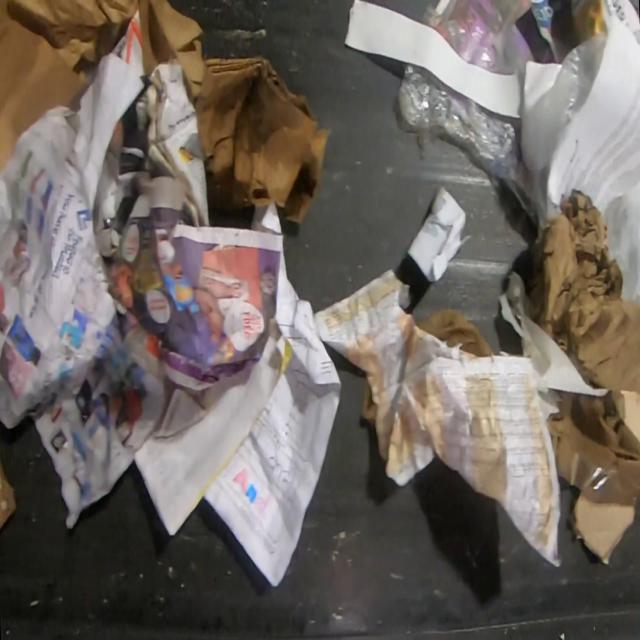cardboard: (0, 0, 205, 179), (195, 55, 333, 225), (527, 189, 639, 390), (573, 493, 636, 569), (610, 386, 640, 445)
soft_plastic: (398, 60, 545, 232), (536, 27, 613, 223), (420, 1, 537, 77)
